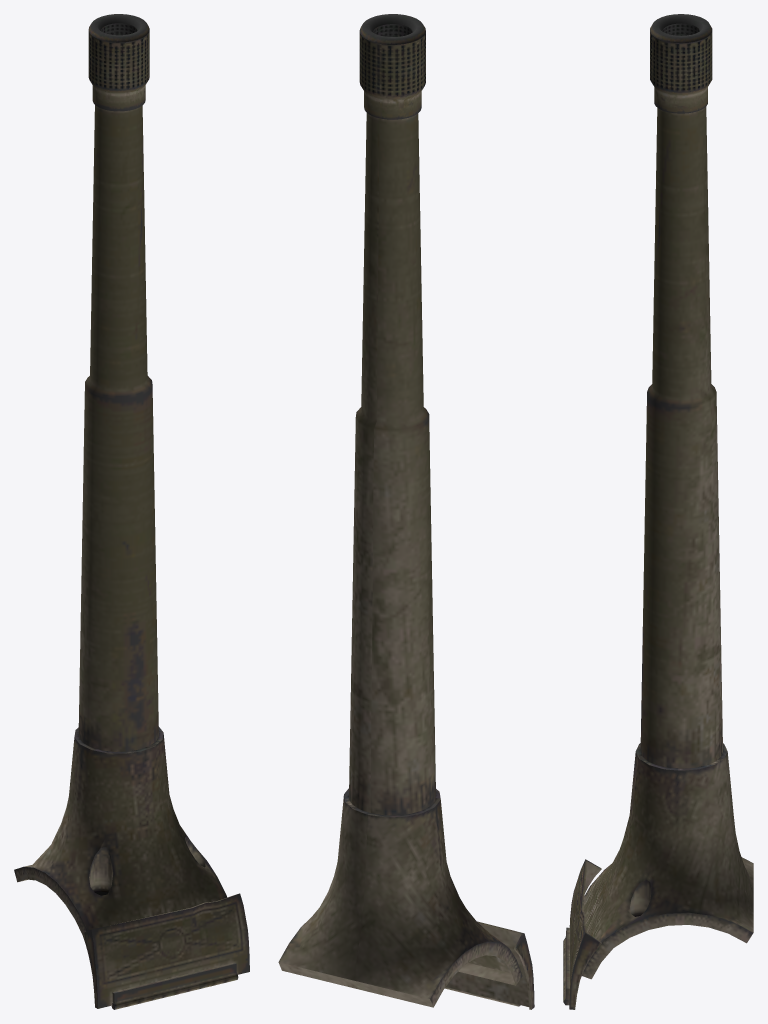
File: Gun_04.glb
The picture shows the model from 3 angles, left to right: view 1: azimuth 30°, elevation 25°; view 2: azimuth 150°, elevation 25°; view 3: azimuth 270°, elevation 25°; orthographic projection. The views are drawn at different scales.
Visible parts, largest first — view 1: set_0_group_0; view 2: set_0_group_0; view 3: set_0_group_0.
Part boxes in pixels (bbox=[...]): set_0_group_0: bbox=[14, 14, 249, 1009]; set_0_group_0: bbox=[278, 14, 534, 1009]; set_0_group_0: bbox=[563, 14, 753, 1009].
Bounding box in the file's own units: 0.592 × 3.45 × 0.6267.
1 material, 1 textured.
